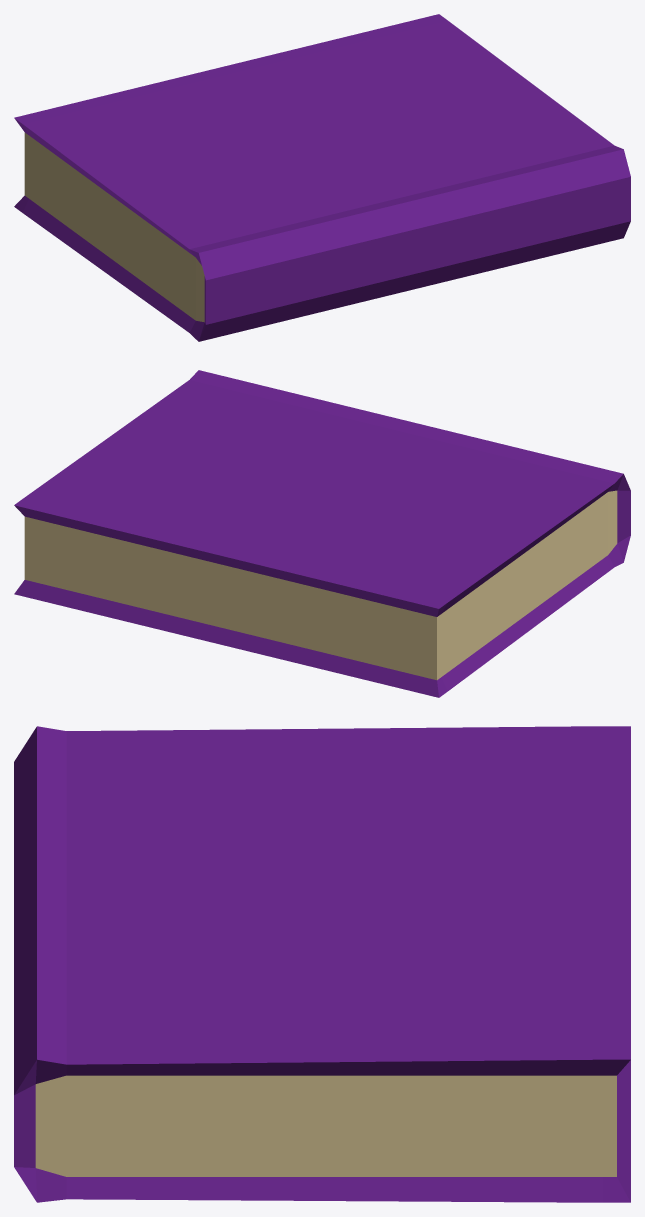
Rendered from Book.fbx.
3 views of the same model, one above another, from view 1: azimuth 30°, elevation 25°; view 2: azimuth 150°, elevation 25°; view 3: azimuth 270°, elevation 25° (orthographic). The views are drawn at different scales.
Visible parts, largest first — view 1: Cube; view 2: Cube; view 3: Cube.
Part boxes in pixels (x1,y1,x2,y2): Cube: (14,14,630,341); Cube: (14,370,630,697); Cube: (14,726,630,1202).
Size of the model in its own units: 200 by 40 by 156.
